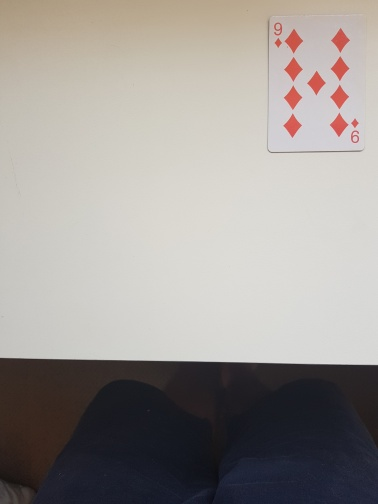nine: (266, 14, 367, 154)
